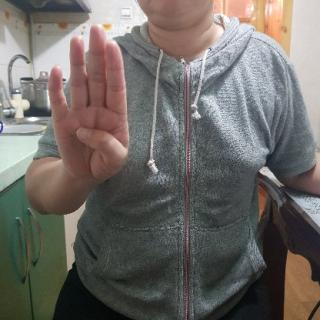KAAF: (41, 24, 136, 191)
